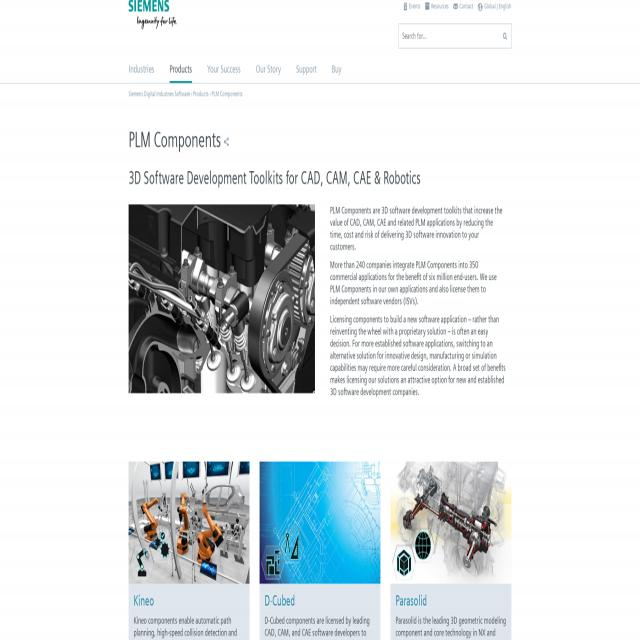button: (129, 204, 315, 393), (128, 464, 250, 581), (391, 464, 512, 581), (260, 464, 380, 581), (207, 55, 241, 83), (129, 12, 177, 29), (128, 55, 154, 83), (256, 55, 281, 83), (170, 55, 192, 83), (296, 55, 317, 83), (128, 0, 176, 12), (332, 55, 341, 83)
field: (398, 24, 512, 48)
